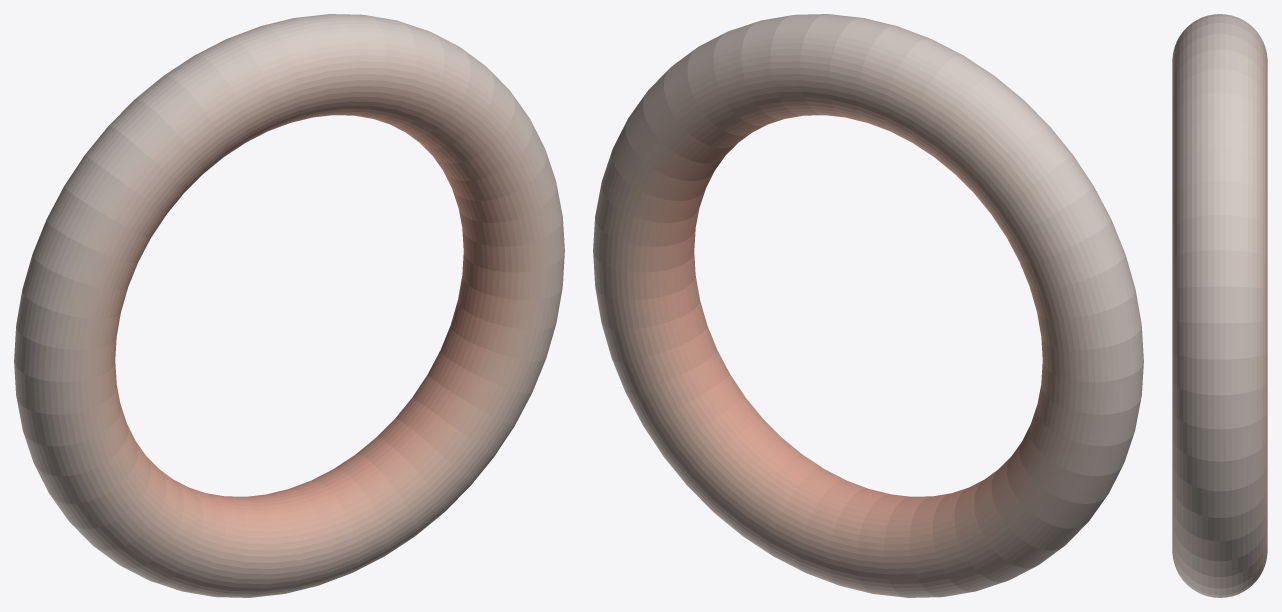
3 views of the same model, side by side, from view 1: azimuth 30°, elevation 25°; view 2: azimuth 150°, elevation 25°; view 3: azimuth 270°, elevation 25° (orthographic). The views are drawn at different scales.
Visible parts, largest first — view 1: world; view 2: world; view 3: world.
Part boxes in pixels (x1=…): world: x1=14, y1=14, x2=564, y2=597; world: x1=593, y1=14, x2=1143, y2=597; world: x1=1172, y1=14, x2=1267, y2=597.
Size of the model in its own units: 31.87 by 31.8 by 5.19.
